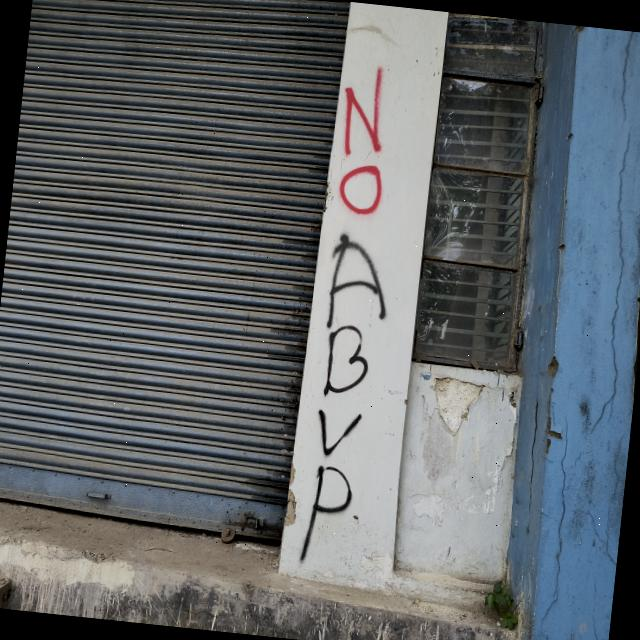crack: (590, 127, 631, 433), (553, 415, 568, 599), (526, 388, 539, 535), (586, 504, 616, 566), (611, 433, 626, 503), (540, 588, 558, 636), (590, 580, 598, 640)
peeling: (434, 377, 484, 435), (482, 456, 506, 513), (414, 494, 446, 525), (508, 389, 518, 444)
spalling: (547, 355, 558, 377)
